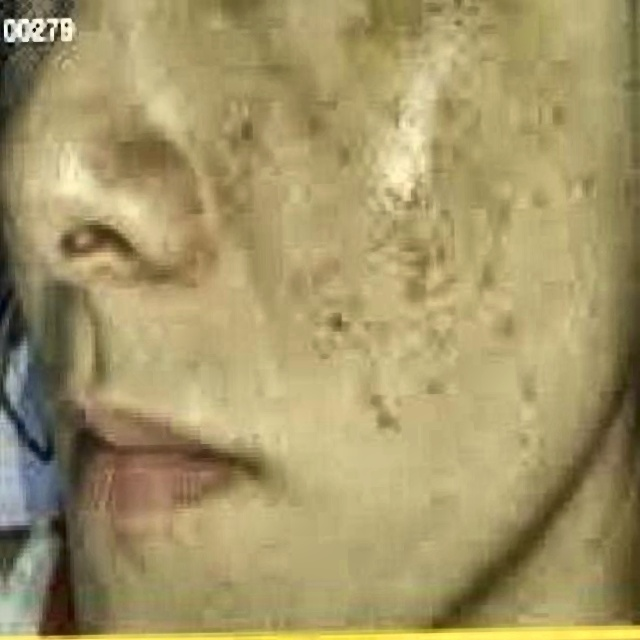comedone: (387, 230, 466, 305), (378, 161, 436, 220)
